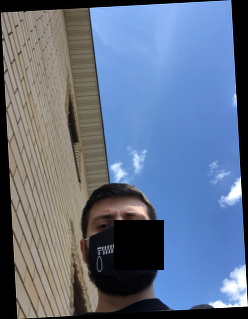with_mask: (86, 207, 158, 297)
